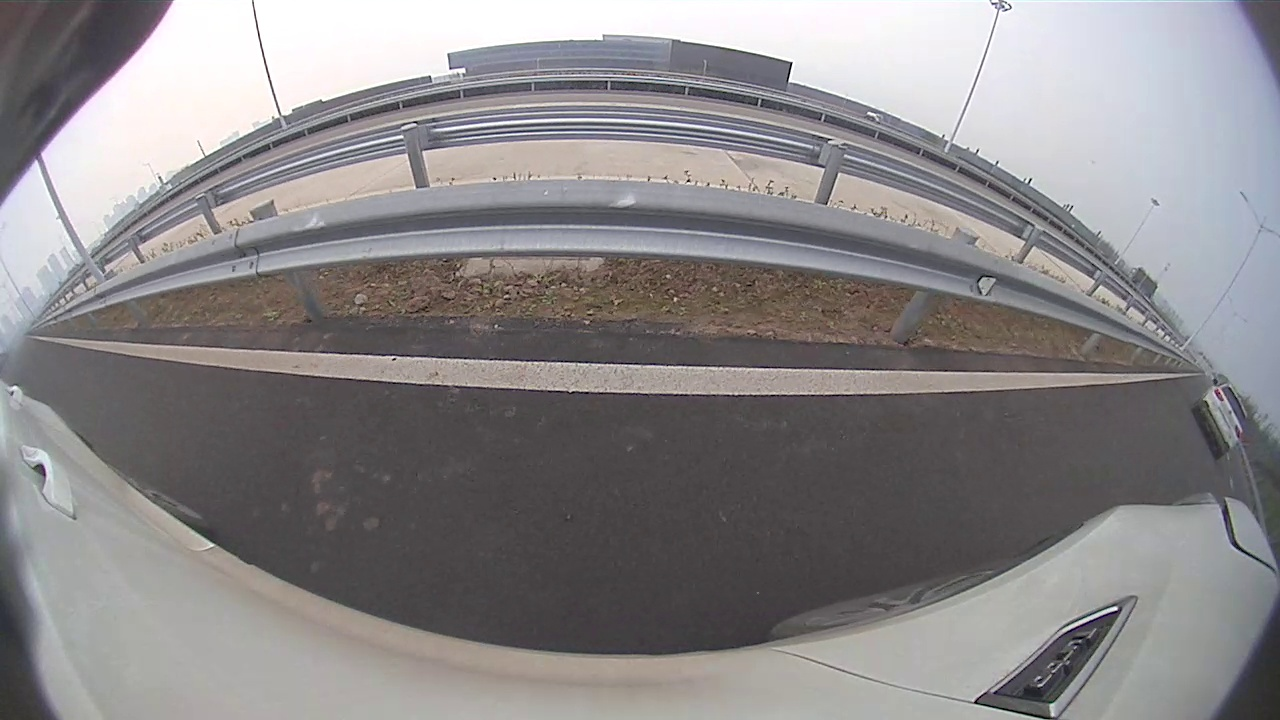car: (304, 144, 499, 266)
front: (482, 189, 498, 221)
rear: (404, 203, 435, 250)
